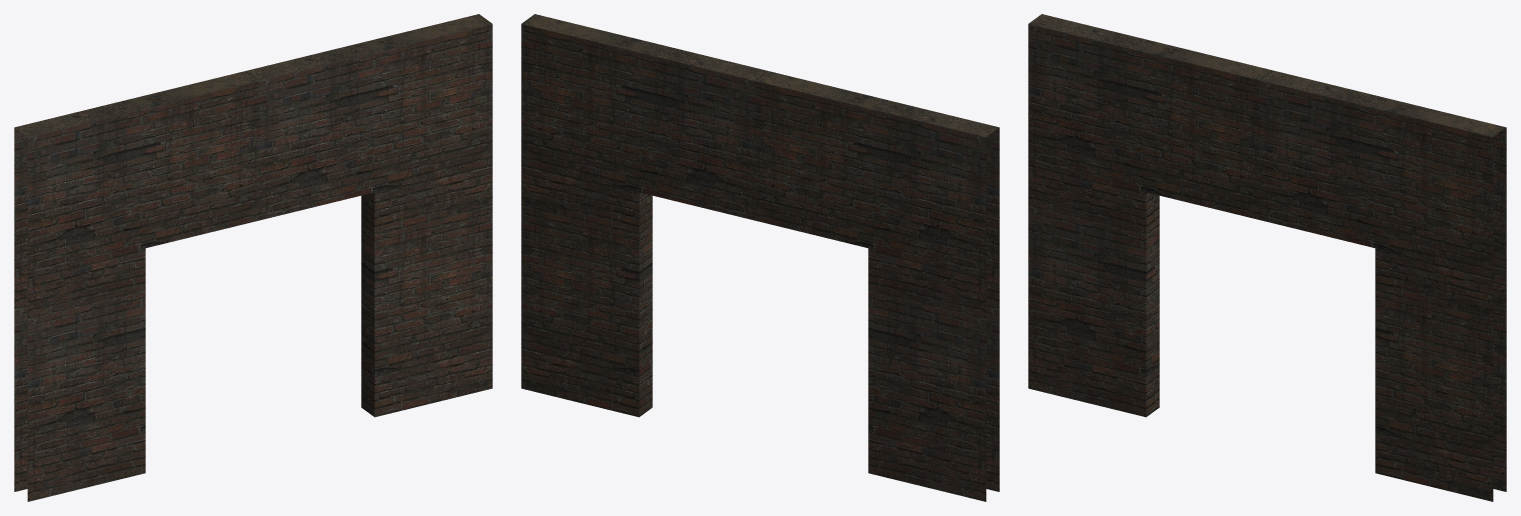
File: garage_door_frame_hs_1.glb
3 views of the same model, side by side, from view 1: azimuth 30°, elevation 25°; view 2: azimuth 150°, elevation 25°; view 3: azimuth 330°, elevation 25° (orthographic).
Parts seen in each view (by area): view 1: garage_door_frame_hs_1; view 2: garage_door_frame_hs_1; view 3: garage_door_frame_hs_1.
Boxes of the visible parts, x1,y1,x2,y2 form: garage_door_frame_hs_1: [14, 14, 492, 501]; garage_door_frame_hs_1: [521, 14, 999, 501]; garage_door_frame_hs_1: [1028, 14, 1506, 501].
Bounding box in the file's own units: 8 × 6 × 0.4.
Materials: 2 (2 with a texture image).
